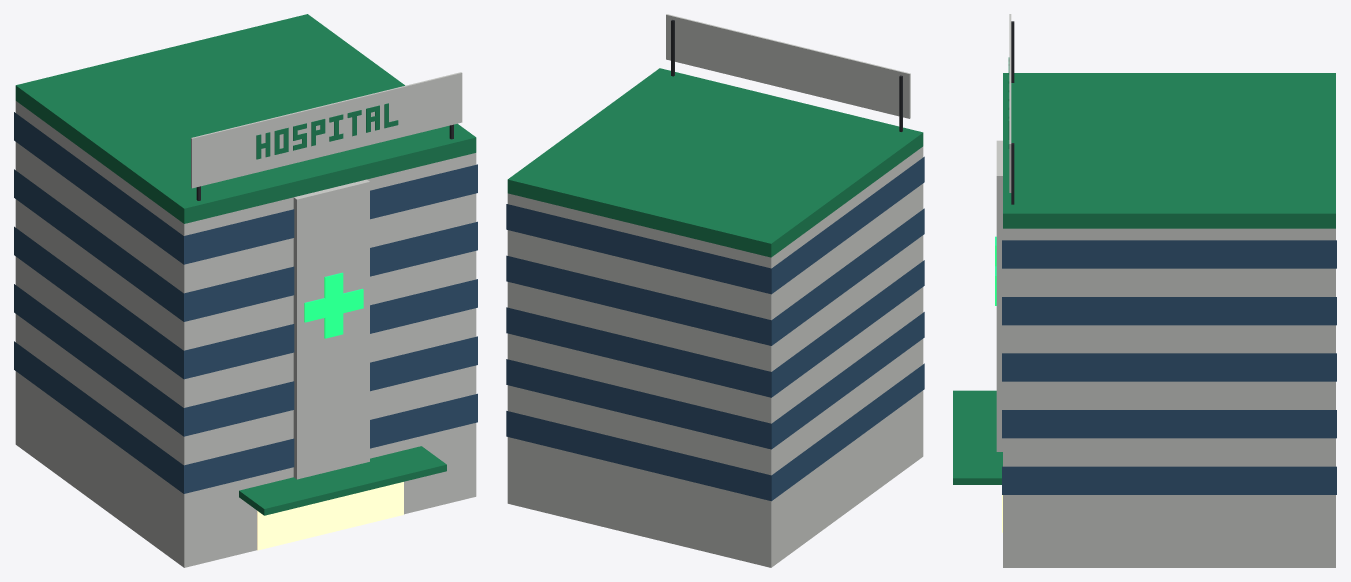
File: bld_dt_hospital.glb
The picture shows the model from 3 angles, left to right: view 1: azimuth 30°, elevation 25°; view 2: azimuth 150°, elevation 25°; view 3: azimuth 270°, elevation 25°; orthographic projection. The views are drawn at different scales.
Parts seen in each view (by area): view 1: bld_dt_hospital; view 2: bld_dt_hospital; view 3: bld_dt_hospital.
Boxes of the visible parts, x1=… form: bld_dt_hospital: x1=14, y1=14, x2=477, y2=567; bld_dt_hospital: x1=506, y1=14, x2=924, y2=567; bld_dt_hospital: x1=953, y1=14, x2=1336, y2=567.
Size of what is drawn, in the model's own units: 16.1 by 22.2 by 18.45.
